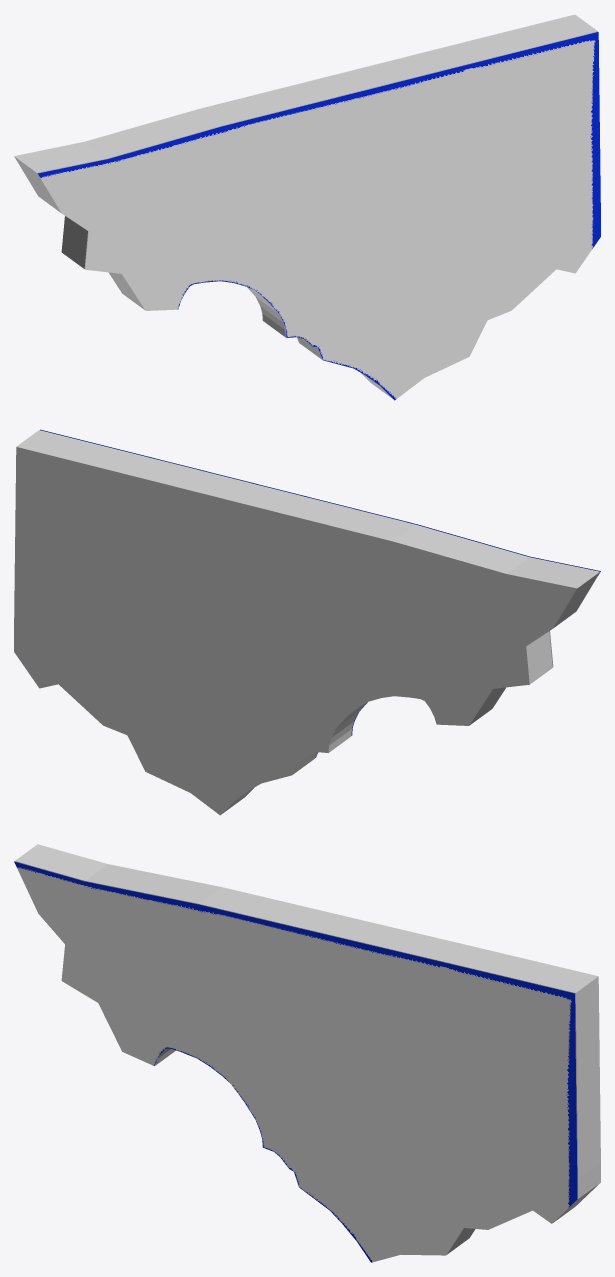
3 views of the same model, one above another, from view 1: azimuth 30°, elevation 25°; view 2: azimuth 150°, elevation 25°; view 3: azimuth 330°, elevation 25° (orthographic).
Visible parts, largest first — view 1: Out_4_1, Out_4_0; view 2: Out_4_0, Out_4_1; view 3: Out_4_1, Out_4_0.
Boxes of the visible parts, x1,y1,x2,y2 form: Out_4_1: [38, 32, 600, 400]; Out_4_0: [14, 14, 597, 399]; Out_4_0: [14, 430, 599, 815]; Out_4_1: [40, 429, 600, 797]; Out_4_1: [14, 861, 577, 1262]; Out_4_0: [15, 844, 600, 1254].
Size of the model in its own units: 7.07 by 3.83 by 0.515.
2 materials, 1 textured.
